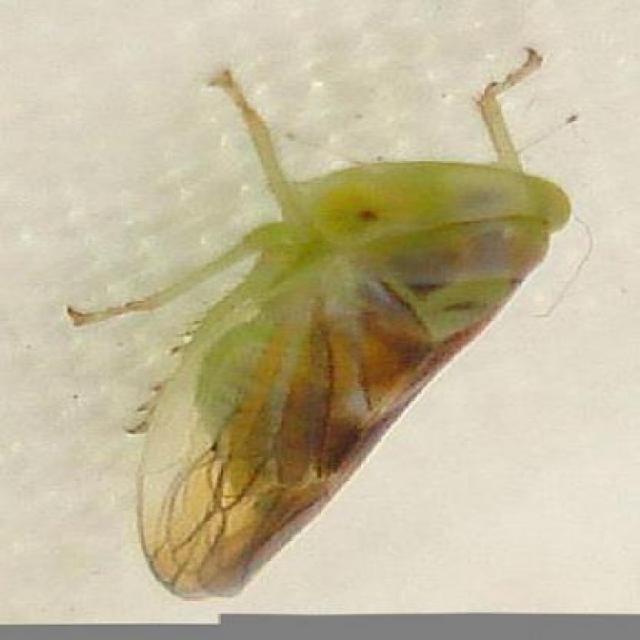green-leafhopper: (138, 146, 571, 599)
